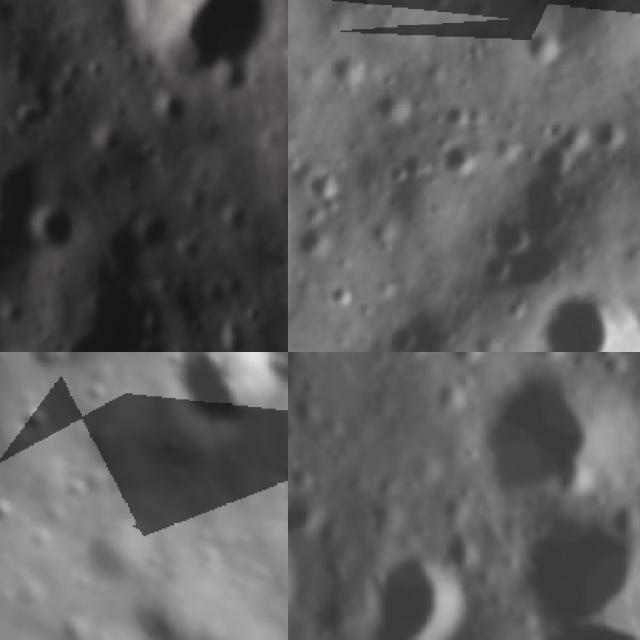crater: (486, 355, 635, 504), (510, 498, 640, 624), (349, 540, 486, 640), (159, 352, 288, 447), (115, 0, 281, 72), (513, 260, 640, 352), (58, 265, 183, 352), (518, 127, 594, 200), (504, 21, 571, 88), (288, 213, 347, 279), (288, 0, 417, 28), (487, 209, 545, 268), (465, 246, 524, 304), (430, 131, 488, 190), (298, 158, 353, 214), (580, 111, 635, 166), (32, 204, 79, 264), (369, 311, 433, 352), (9, 398, 56, 444), (288, 493, 328, 542), (318, 276, 362, 318), (151, 91, 194, 128), (0, 490, 26, 536), (208, 325, 251, 352), (441, 352, 485, 369)
